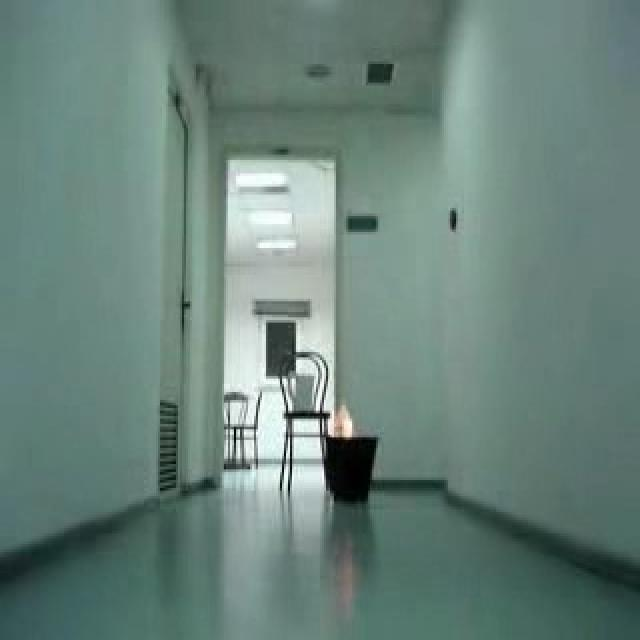fire: (335, 402, 354, 438)
